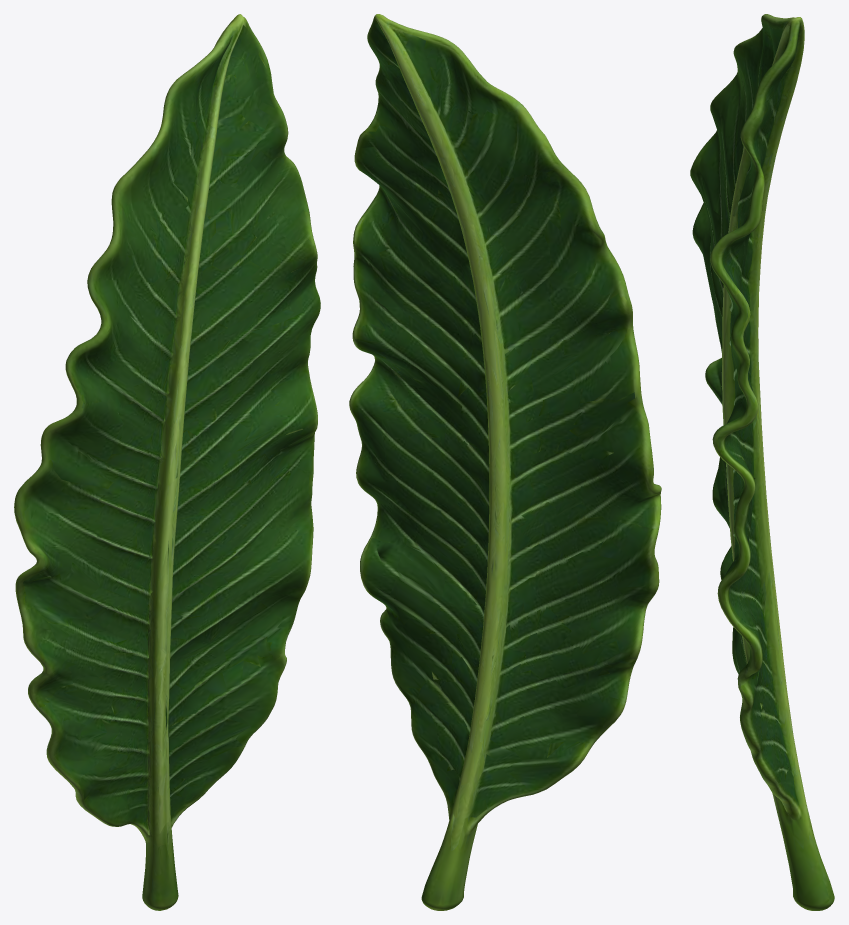
3 renders of one model, left to right at view 1: azimuth 30°, elevation 25°; view 2: azimuth 150°, elevation 25°; view 3: azimuth 270°, elevation 25°, orthographic. The views are drawn at different scales.
Size of the model in its own units: 0.6907 by 1.9 by 0.2689.
1 material, 1 textured.
